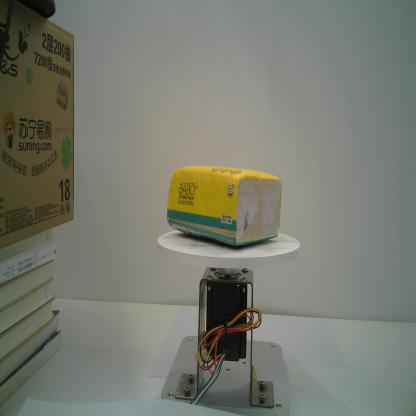Tissue: (165, 163, 284, 250)
